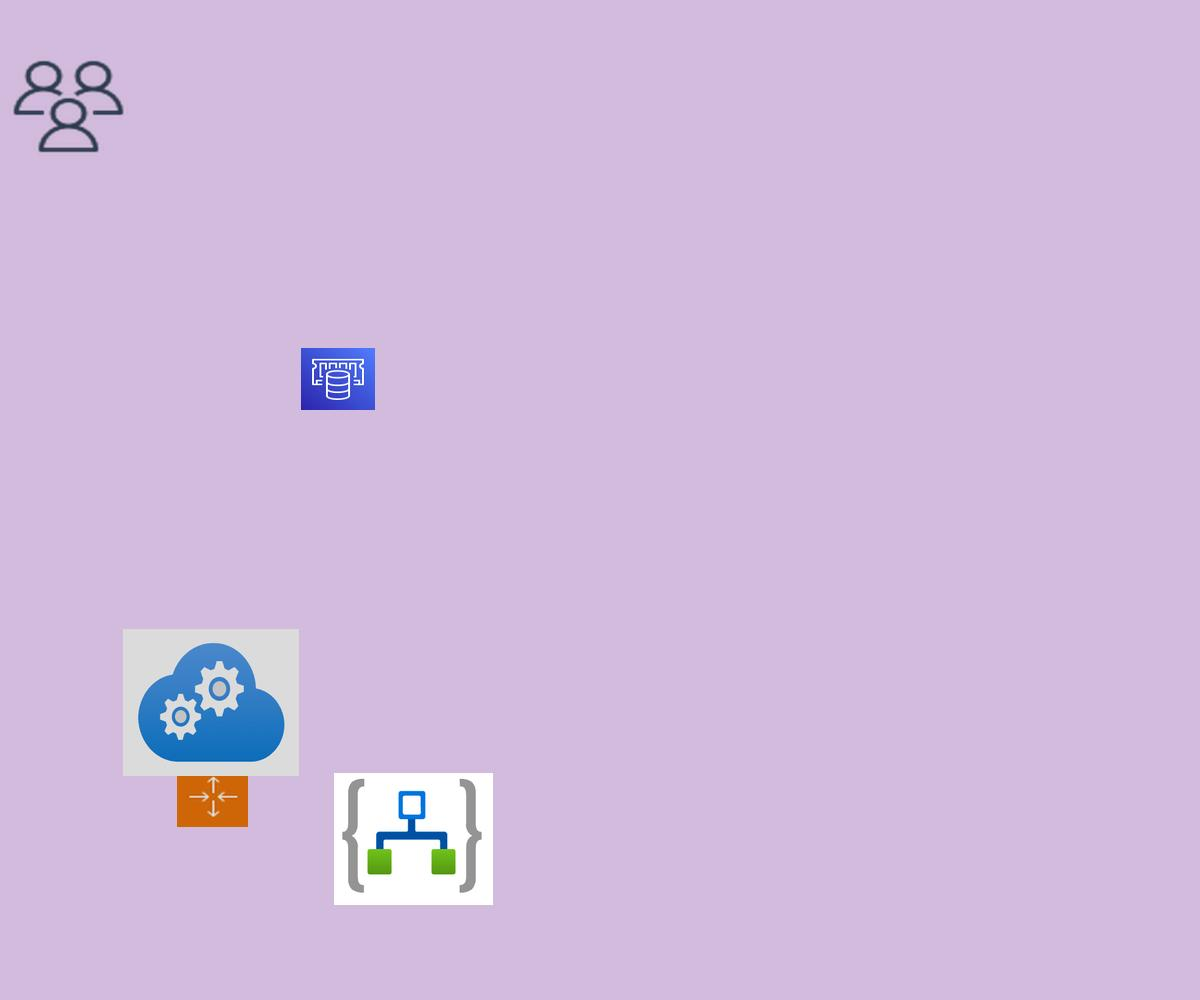AWS-ElastiCache: (301, 348, 375, 410)
AWS-Res_Users: (9, 57, 128, 156)
AWS-Scaling-group: (177, 768, 248, 827)
Azure_cloud_services: (123, 629, 299, 776)
Azure_integration-204-Logic-Apps: (334, 773, 493, 905)
